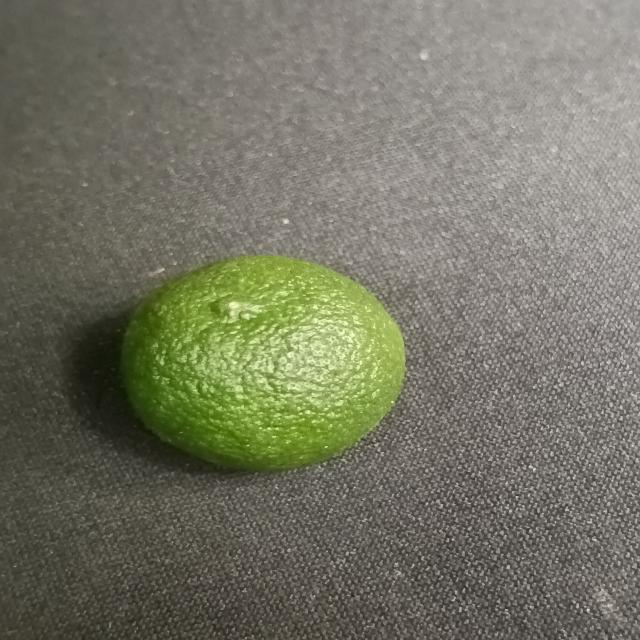heathy: (114, 251, 413, 472)
